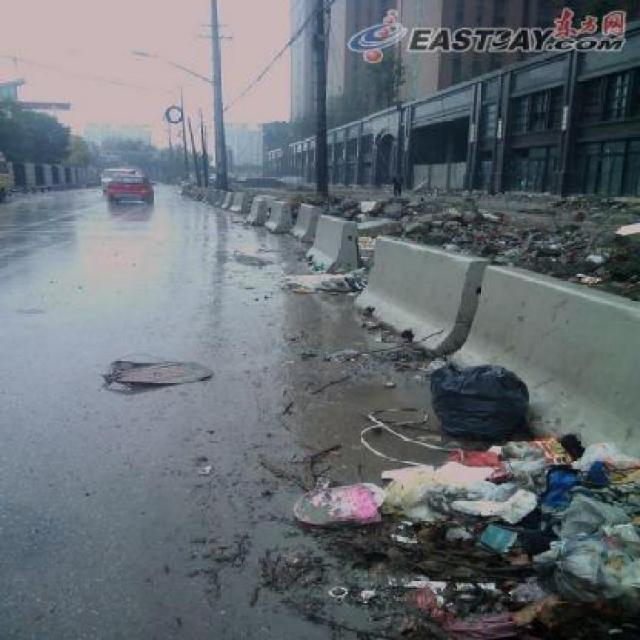garbage: (319, 373, 639, 640), (294, 183, 638, 293), (108, 352, 234, 396)
